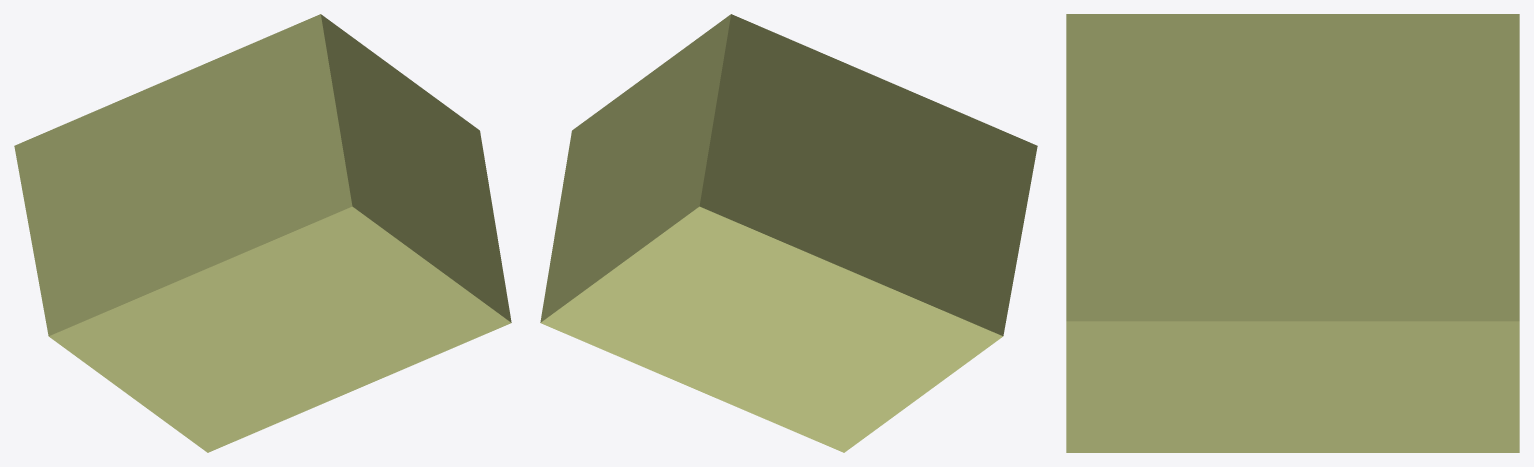
The picture shows the model from 3 angles, left to right: view 1: azimuth 30°, elevation 25°; view 2: azimuth 150°, elevation 25°; view 3: azimuth 270°, elevation 25°; orthographic projection. The views are drawn at different scales.
Parts seen in each view (by area): view 1: 0_1_2_3_3_3_3_3_3_1_0; view 2: 0_1_2_3_3_3_3_3_3_1_0; view 3: 0_1_2_3_3_3_3_3_3_1_0.
Boxes of the visible parts, bbox=[...] form: 0_1_2_3_3_3_3_3_3_1_0: bbox=[14, 14, 511, 452]; 0_1_2_3_3_3_3_3_3_1_0: bbox=[540, 14, 1037, 452]; 0_1_2_3_3_3_3_3_3_1_0: bbox=[1066, 14, 1519, 452].
Size of the model in its own units: 11.04 by 7.98 by 9.
